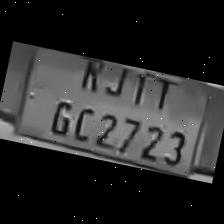1: (122, 66, 152, 108)
2: (88, 105, 120, 150), (134, 118, 166, 163)
3: (157, 124, 189, 169)
7: (111, 111, 143, 156)
C: (68, 100, 97, 144)
G: (43, 94, 75, 140)
J: (101, 61, 130, 101)
R: (74, 55, 106, 96)
T: (144, 71, 176, 116)
